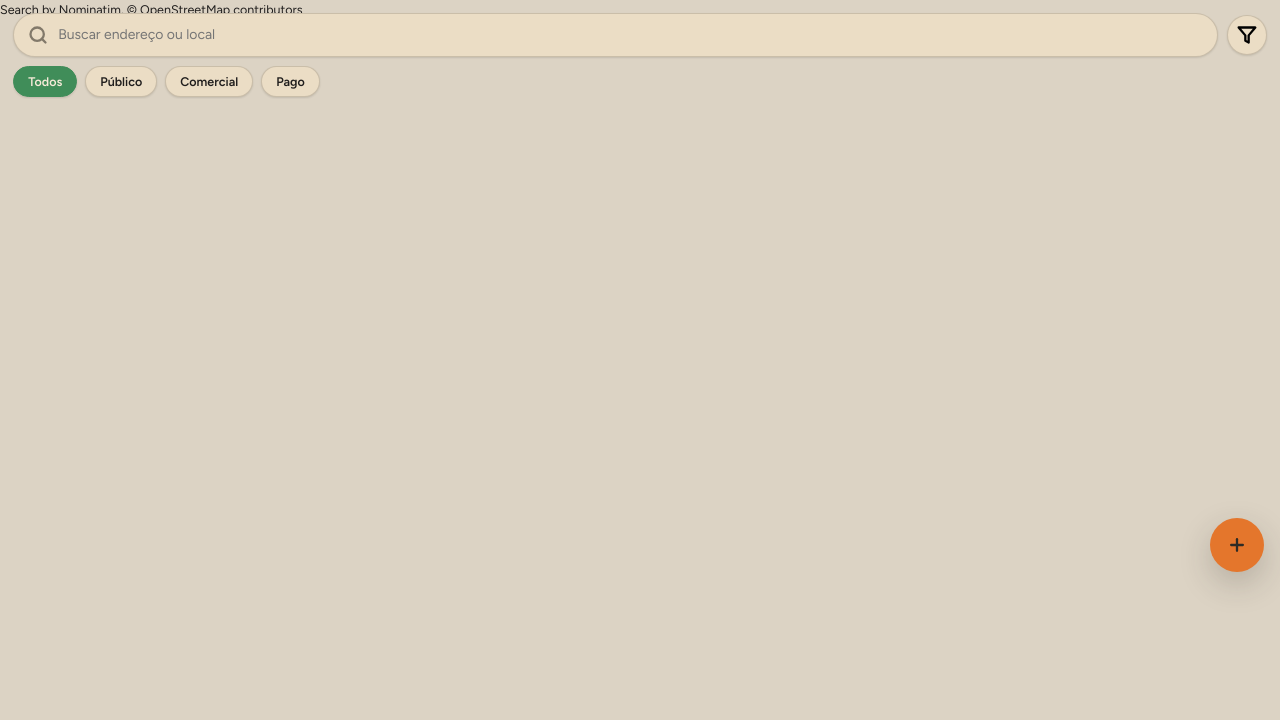
it: clicking the legend toggle again hides the legend rows
The width and height of the screenshot is (1280, 720).
Click the button named "Legenda" at (1247, 35), box left=1227, top=15, right=1267, bottom=55
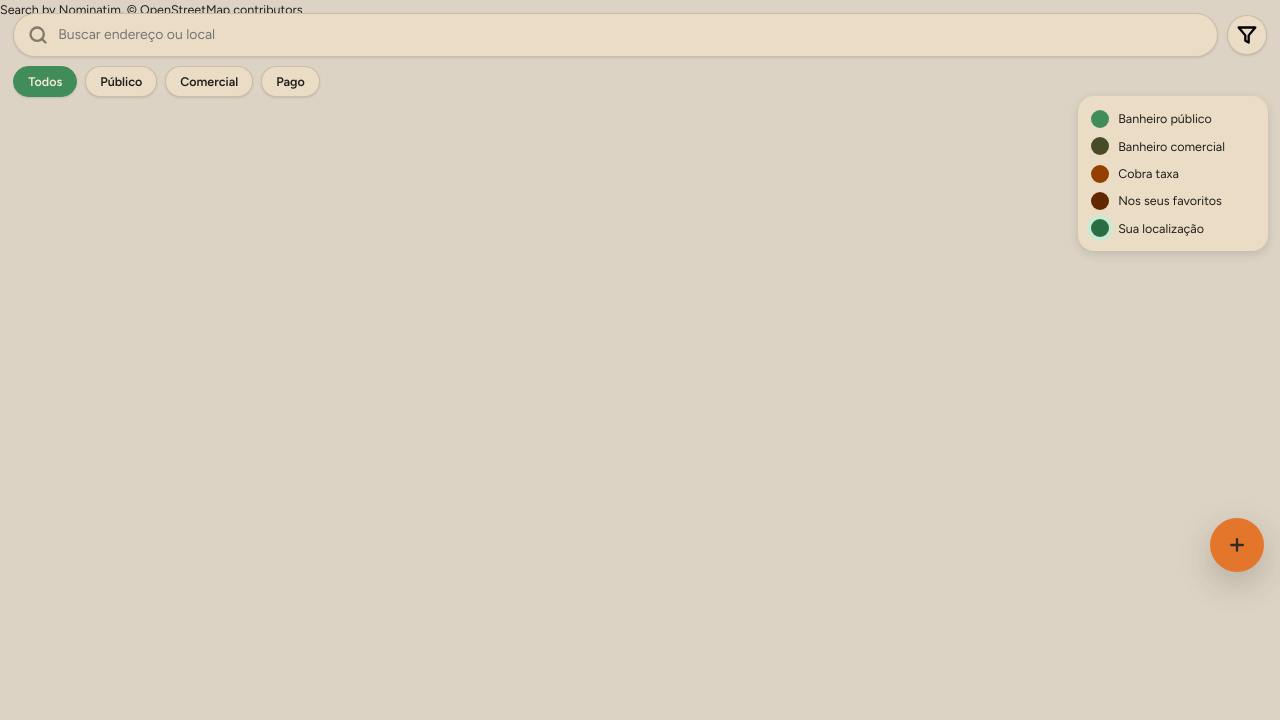
Click the button named "Legenda" at (1247, 35), box left=1227, top=15, right=1267, bottom=55
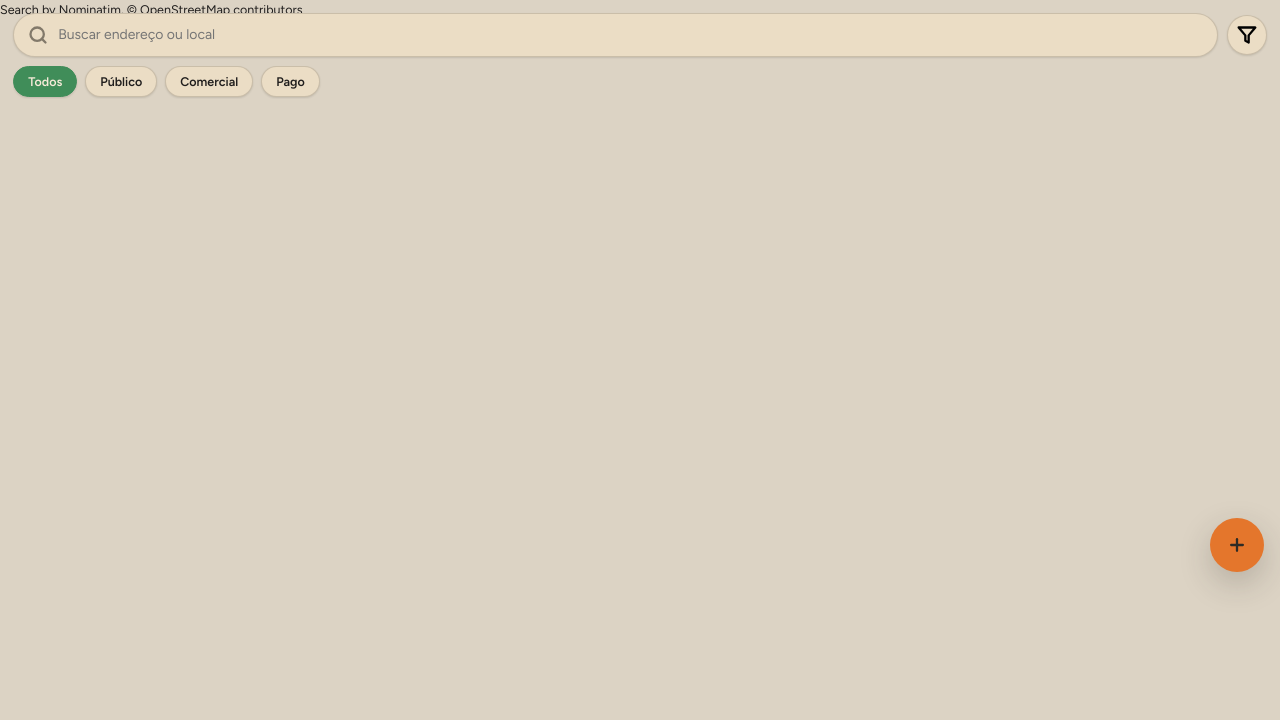
Check: the text "Banheiro público" is gone
